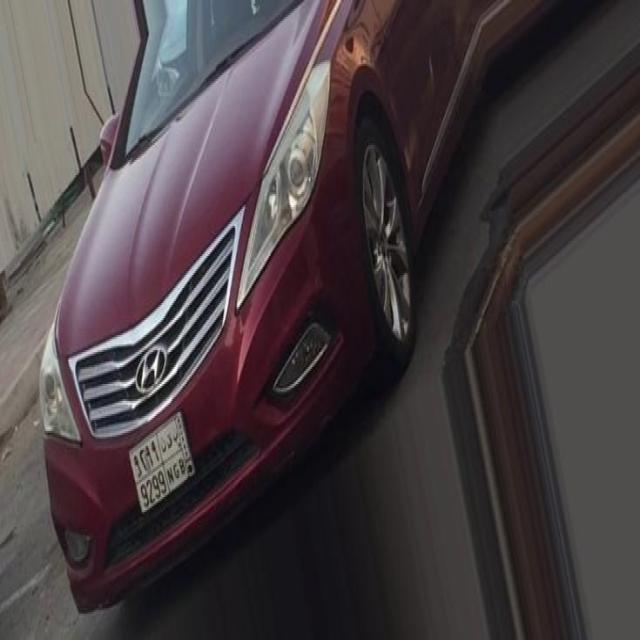Car-plate: (119, 400, 204, 525)
